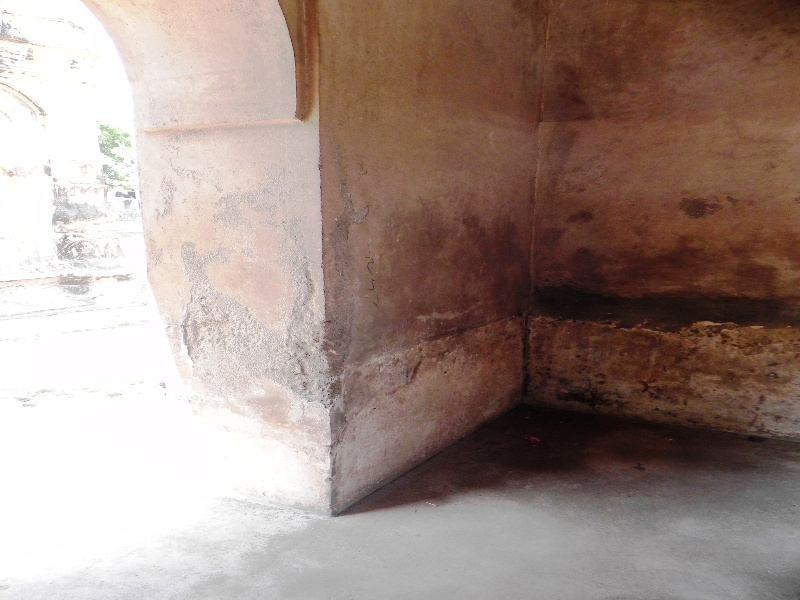Spalling: (280, 282, 345, 403)
